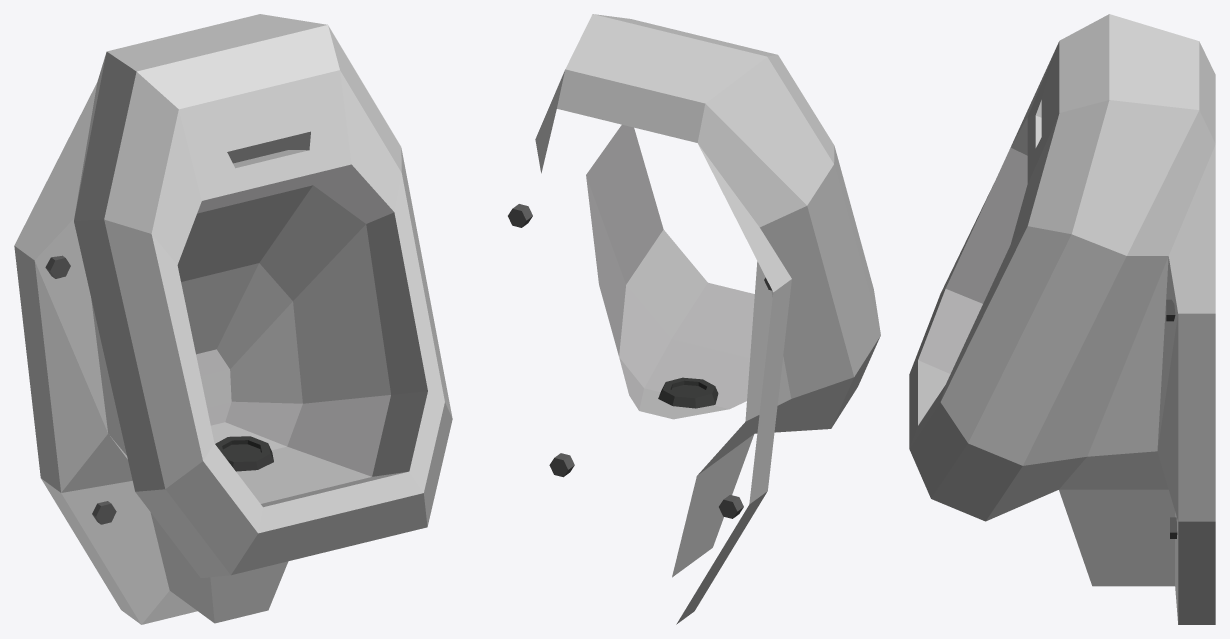
Rendered from Urinal.glb.
3 renders of one model, left to right at view 1: azimuth 30°, elevation 25°; view 2: azimuth 150°, elevation 25°; view 3: azimuth 270°, elevation 25°, orthographic. The views are drawn at different scales.
Visible parts, largest first — view 1: mictorio; view 2: mictorio; view 3: mictorio.
Boxes of the visible parts, bbox=[...] form: mictorio: bbox=[14, 14, 452, 624]; mictorio: bbox=[508, 14, 880, 624]; mictorio: bbox=[909, 14, 1215, 624].
Bounding box in the file's own units: 0.4382 × 0.7722 × 0.3942.
1 material, 1 textured.
